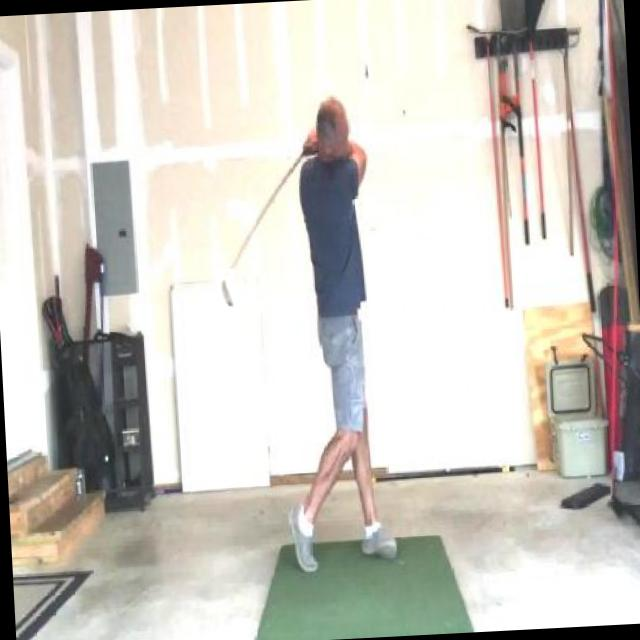club head: (216, 268, 237, 310)
